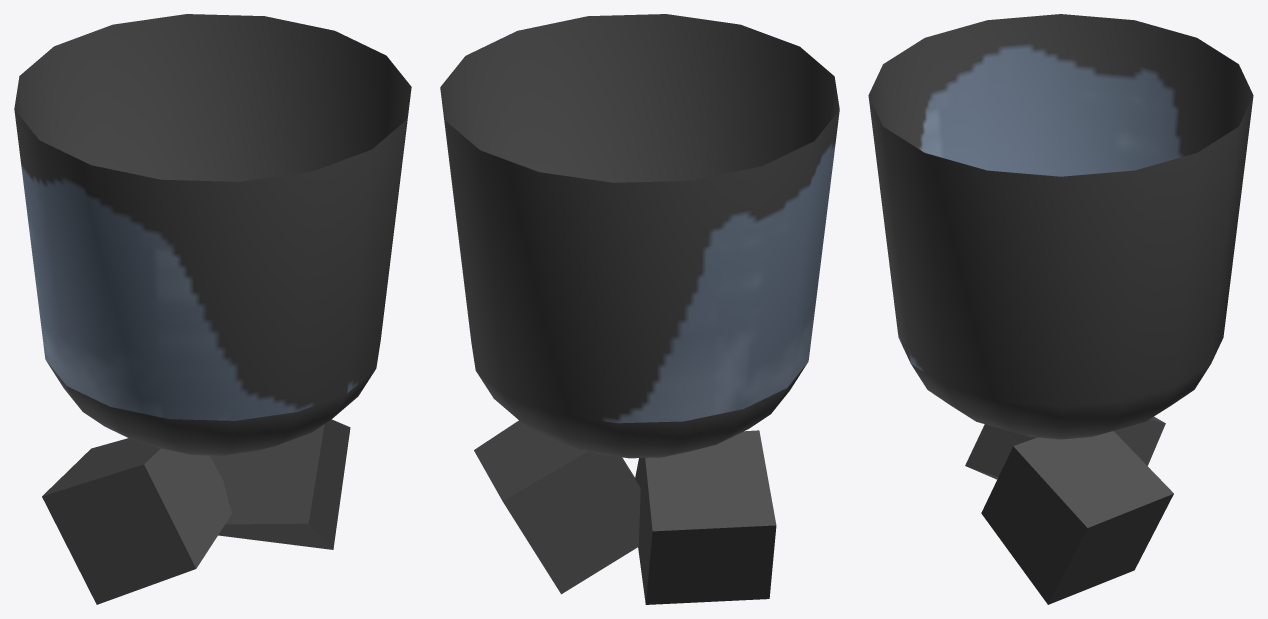
Rendered from WhiskeyGlassSeparated.fbx.
3 renders of one model, left to right at view 1: azimuth 30°, elevation 25°; view 2: azimuth 150°, elevation 25°; view 3: azimuth 270°, elevation 25°, orthographic. The views are drawn at different scales.
Parts seen in each view (by area): view 1: whiskeyGlassInternal, whiskeySurfaceAndIce; view 2: whiskeyGlassInternal, whiskeySurfaceAndIce; view 3: whiskeyGlassInternal, whiskeySurfaceAndIce.
Boxes of the visible parts, bbox=[...] form: whiskeyGlassInternal: bbox=[14, 14, 411, 455]; whiskeySurfaceAndIce: bbox=[42, 419, 350, 604]; whiskeyGlassInternal: bbox=[440, 14, 839, 458]; whiskeySurfaceAndIce: bbox=[474, 420, 776, 604]; whiskeyGlassInternal: bbox=[868, 14, 1253, 439]; whiskeySurfaceAndIce: bbox=[965, 417, 1173, 604].
Bounding box in the file's own units: 9.27 × 12.13 × 9.27.
